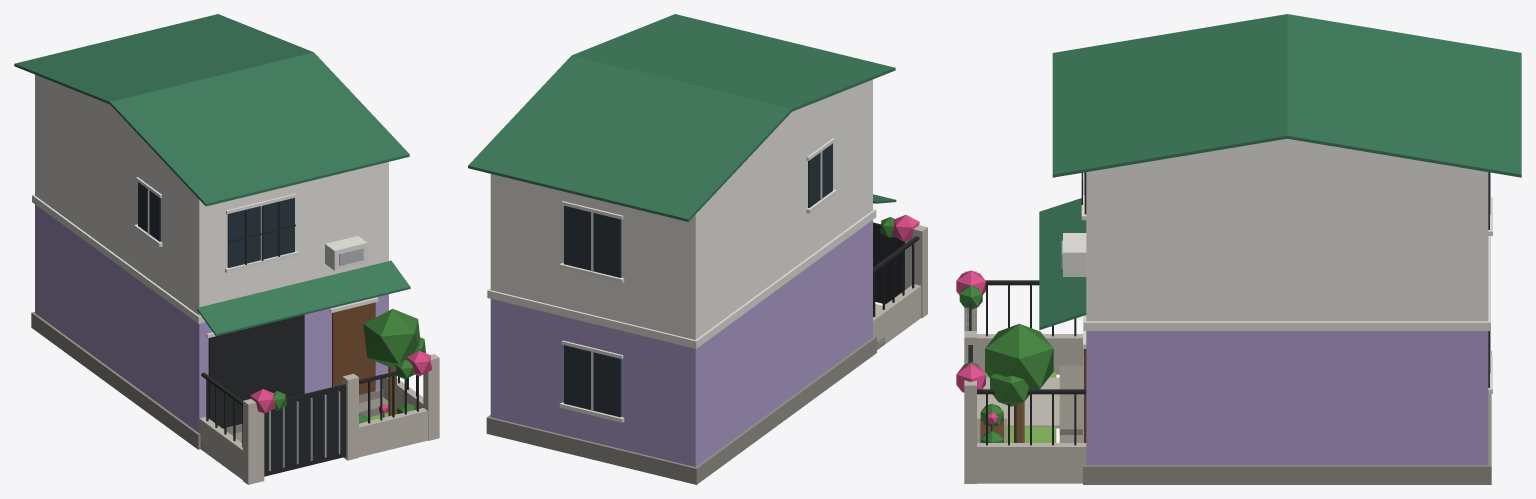
File: BAY_F_TwoStorey_M.glb
3 renders of one model, left to right at view 1: azimuth 30°, elevation 25°; view 2: azimuth 150°, elevation 25°; view 3: azimuth 270°, elevation 25°, orthographic. The views are drawn at different scales.
Visible parts, largest first — view 1: BAY_F_TwoStorey_M; view 2: BAY_F_TwoStorey_M; view 3: BAY_F_TwoStorey_M.
Part boxes in pixels (<box>): BAY_F_TwoStorey_M: <box>14,14,439,484</box>; BAY_F_TwoStorey_M: <box>468,14,927,484</box>; BAY_F_TwoStorey_M: <box>956,14,1521,484</box>.
Bounding box in the file's own units: 4.3 × 5.8 × 8.44.
Materials: 1 (1 with a texture image).
